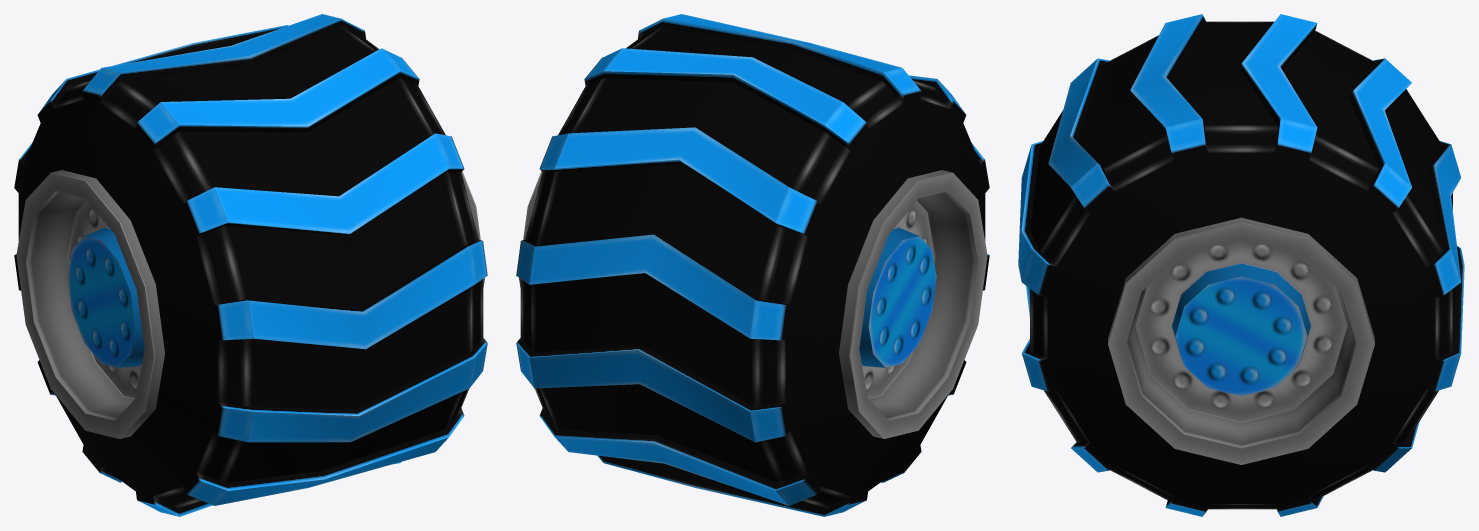
File: wheel_MTB.FBX
The picture shows the model from 3 angles, left to right: view 1: azimuth 30°, elevation 25°; view 2: azimuth 150°, elevation 25°; view 3: azimuth 270°, elevation 25°; orthographic projection. The views are drawn at different scales.
Visible parts, largest first — view 1: wheel_MTB; view 2: wheel_MTB; view 3: wheel_MTB.
Part boxes in pixels (bbox=[...]): wheel_MTB: bbox=[14, 14, 487, 516]; wheel_MTB: bbox=[516, 14, 989, 516]; wheel_MTB: bbox=[1018, 14, 1464, 516].
Bounding box in the file's own units: 0.1618 × 0.1943 × 0.1943.
